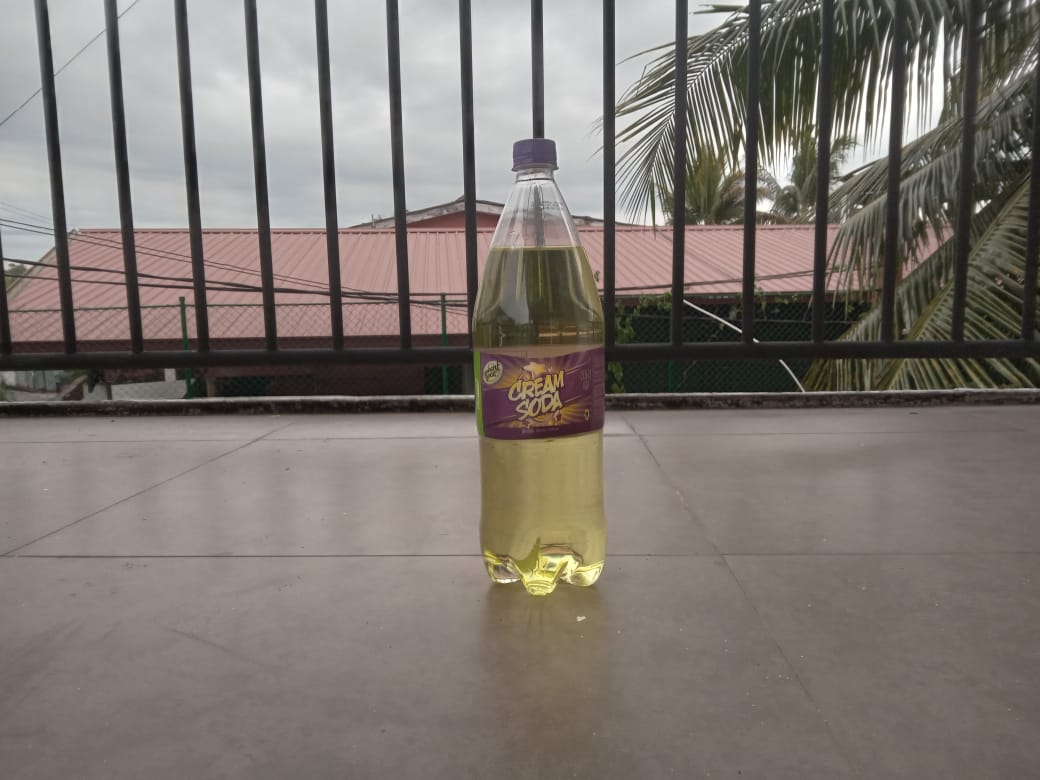L: (465, 131, 613, 610)
